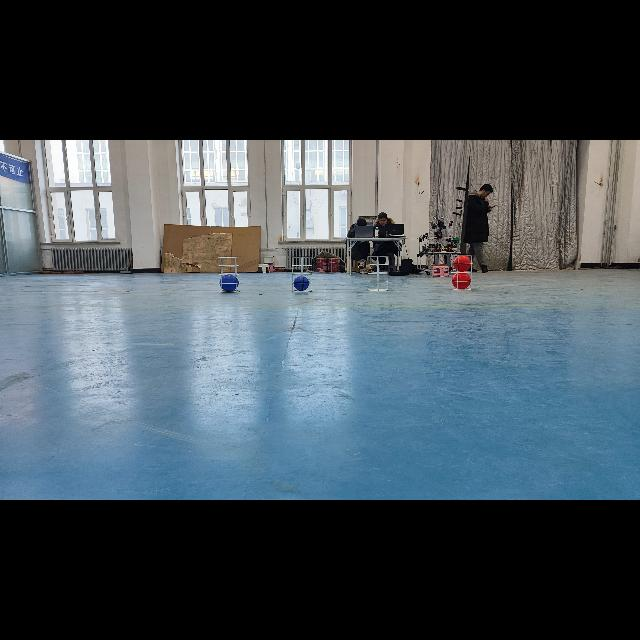B: (220, 276, 238, 292), (293, 276, 309, 292)
R: (452, 254, 472, 272), (451, 272, 471, 290)
S: (449, 252, 475, 294), (216, 254, 242, 294), (290, 254, 316, 294), (366, 252, 390, 294)
